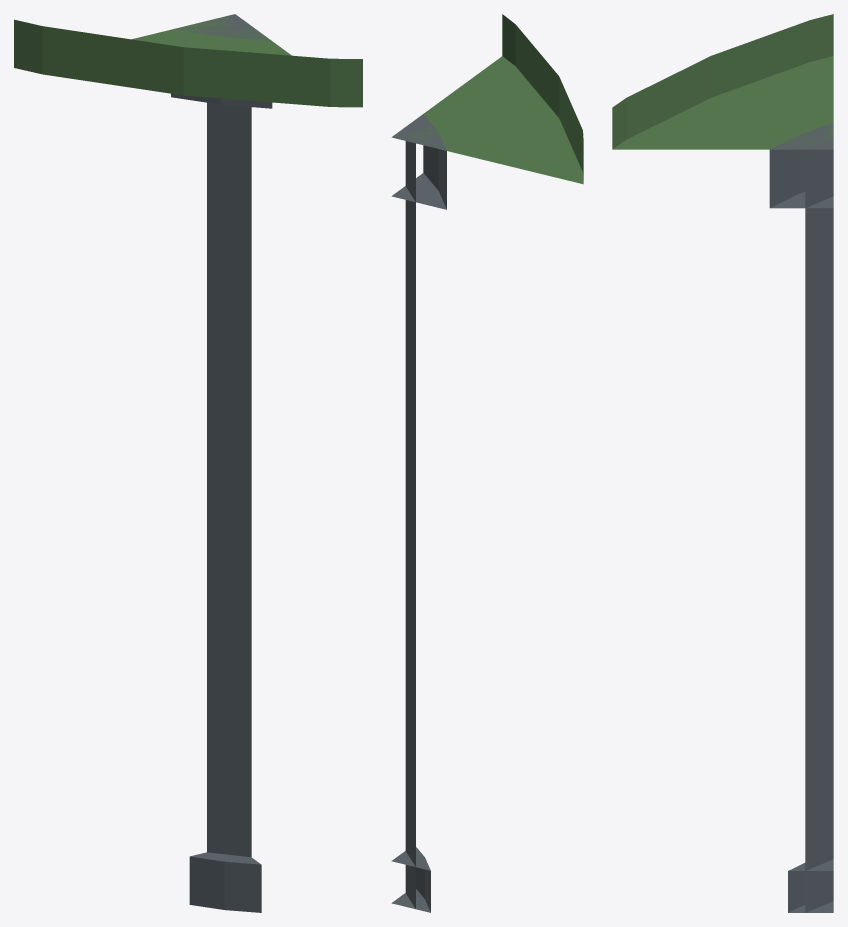
The model's file is cell_26.obj.
The picture shows the model from 3 angles, left to right: view 1: azimuth 30°, elevation 25°; view 2: azimuth 150°, elevation 25°; view 3: azimuth 270°, elevation 25°; orthographic projection. The views are drawn at different scales.
Size of the model in its own units: 0.2393 by 0.96 by 0.2393.
